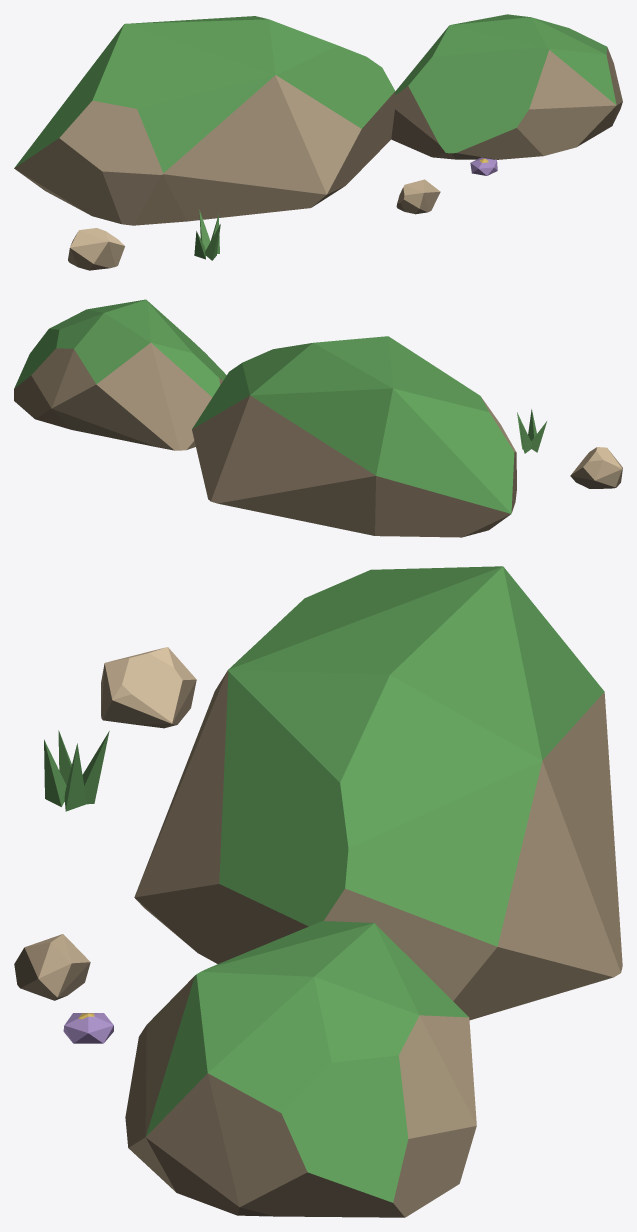
Rendered from ranch_border_rock_slab.fbx.
3 views of the same model, one above another, from view 1: azimuth 30°, elevation 25°; view 2: azimuth 150°, elevation 25°; view 3: azimuth 270°, elevation 25° (orthographic). The views are drawn at different scales.
Parts seen in each view (by area): view 1: ranch_border_rock_slab; view 2: ranch_border_rock_slab; view 3: ranch_border_rock_slab.
Part boxes in pixels (x1,y1,x2,y2): ranch_border_rock_slab: [14, 14, 622, 270]; ranch_border_rock_slab: [14, 299, 622, 537]; ranch_border_rock_slab: [14, 566, 622, 1217].
Bounding box in the file's own units: 13.77 × 3.17 × 6.56.
